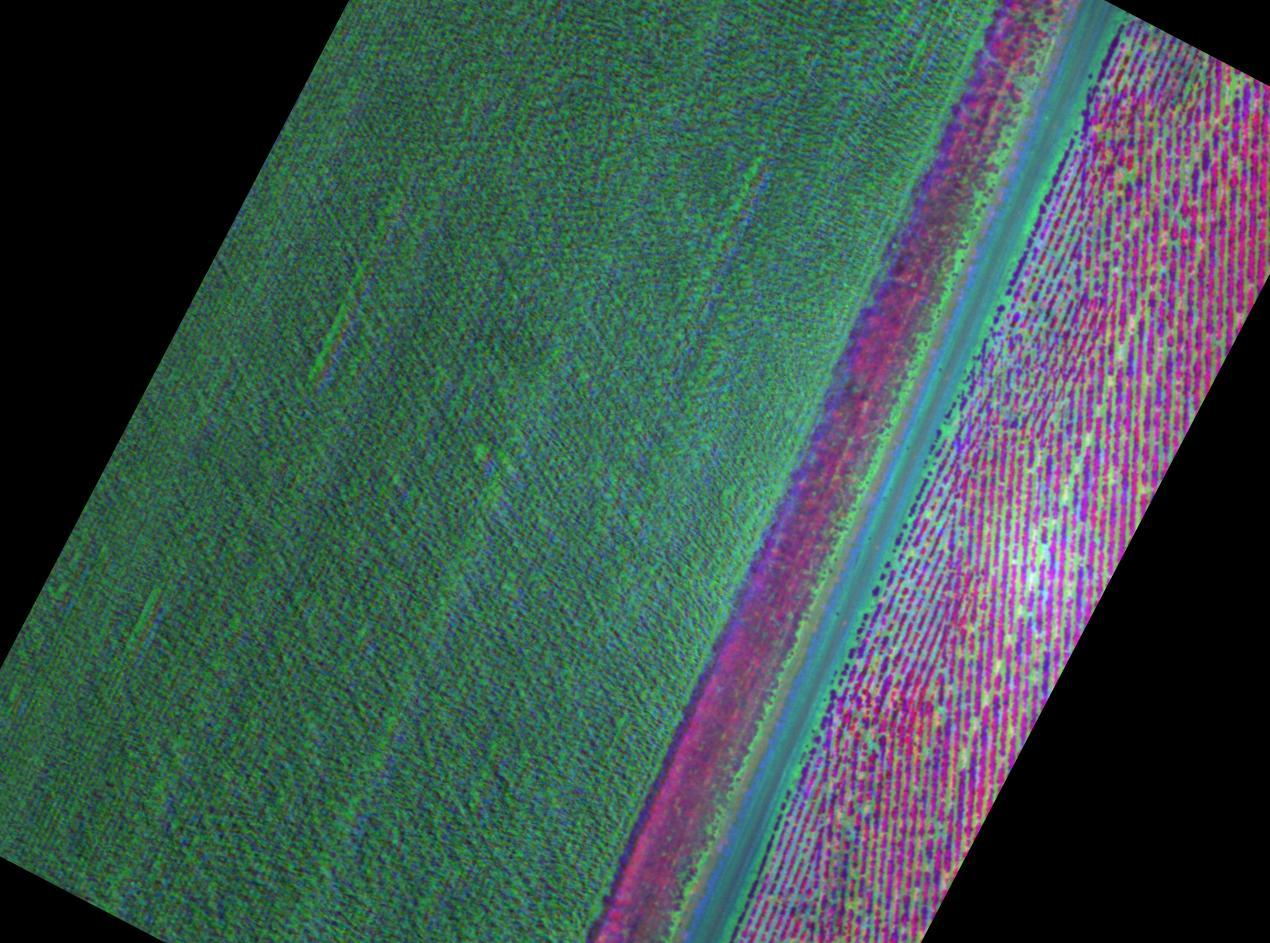dc: (961, 751, 967, 756), (1086, 438, 1091, 443), (983, 697, 988, 702), (847, 903, 853, 907), (1062, 492, 1065, 497), (1065, 590, 1068, 595)
